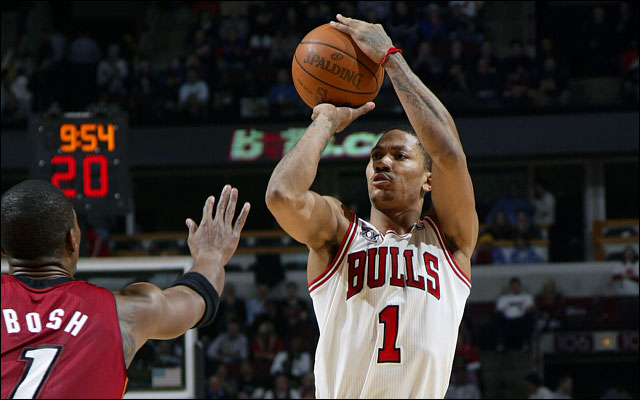Basketball: (287, 21, 385, 109)
